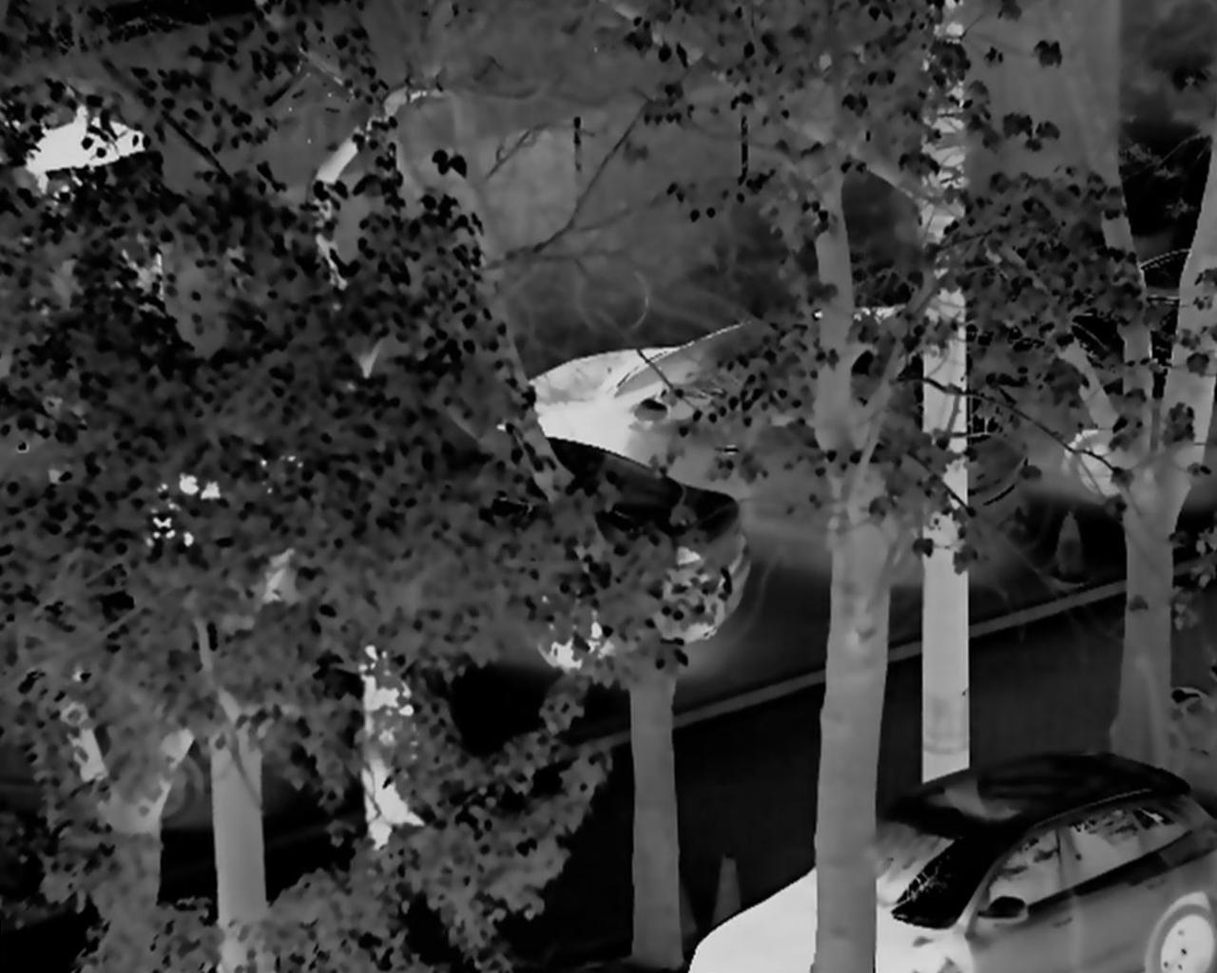person: (350, 643, 436, 889)
